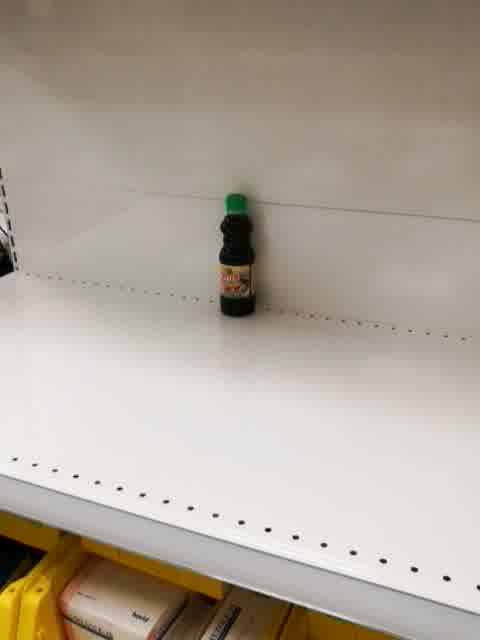cookingoil: (215, 191, 260, 320)
